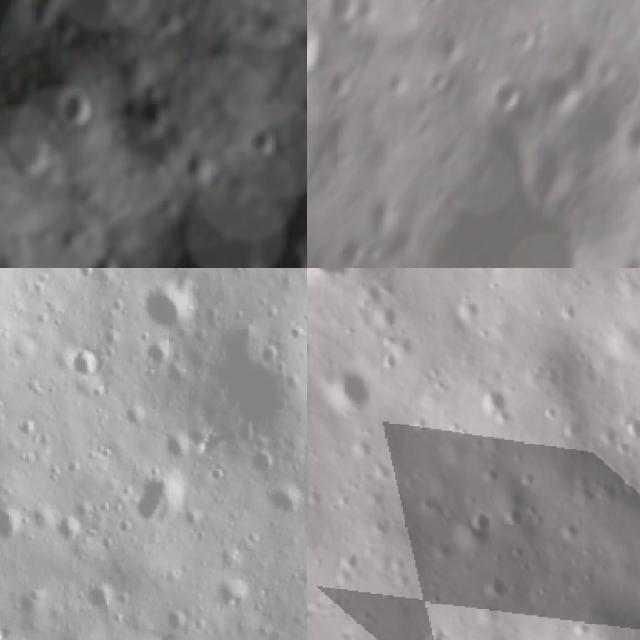crater: (403, 106, 625, 268), (204, 318, 296, 429), (560, 69, 634, 158), (316, 356, 393, 432), (369, 315, 434, 379), (132, 280, 200, 334), (453, 497, 513, 557), (307, 224, 377, 268), (136, 471, 187, 530), (533, 64, 585, 120), (444, 288, 496, 340), (8, 128, 53, 186), (473, 563, 524, 614), (307, 0, 336, 88), (307, 268, 372, 304), (485, 66, 530, 117), (322, 58, 366, 105), (406, 609, 466, 640), (365, 188, 404, 233), (212, 574, 254, 614), (267, 483, 307, 524), (0, 500, 31, 552), (154, 428, 194, 468), (420, 60, 458, 100), (54, 88, 101, 120), (333, 229, 371, 268), (82, 579, 120, 617), (138, 333, 174, 372), (69, 346, 100, 382), (320, 0, 366, 23), (252, 123, 280, 160), (621, 105, 640, 159), (614, 242, 640, 268), (307, 89, 316, 162), (416, 0, 454, 13), (87, 258, 115, 268)
